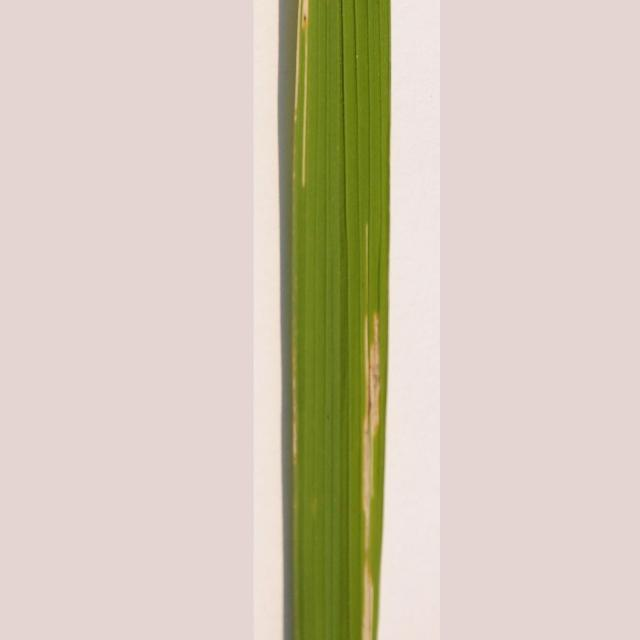Bacterial leaf blight: (355, 199, 385, 640), (282, 1, 320, 198), (284, 244, 304, 493)
